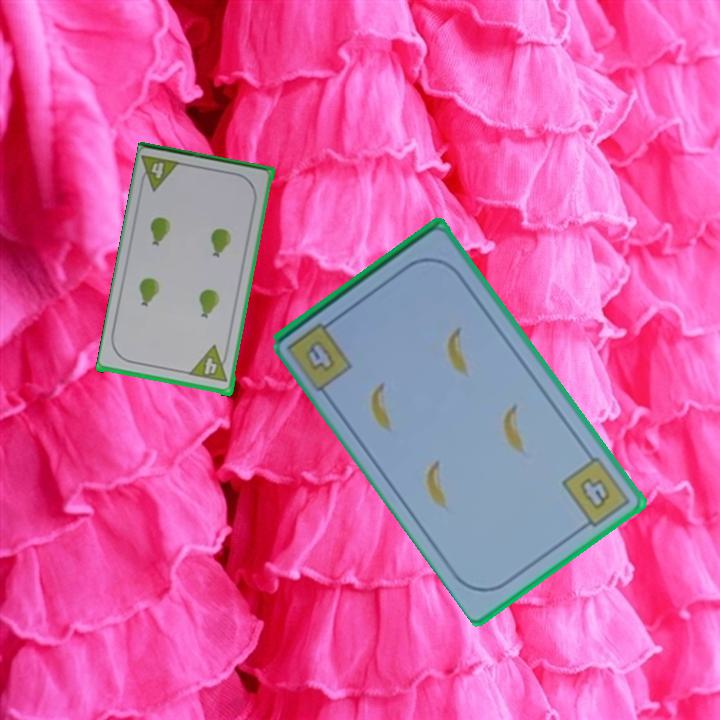4b: (558, 453, 633, 534), (302, 336, 339, 375)
4p: (136, 151, 185, 195), (186, 343, 232, 386)
